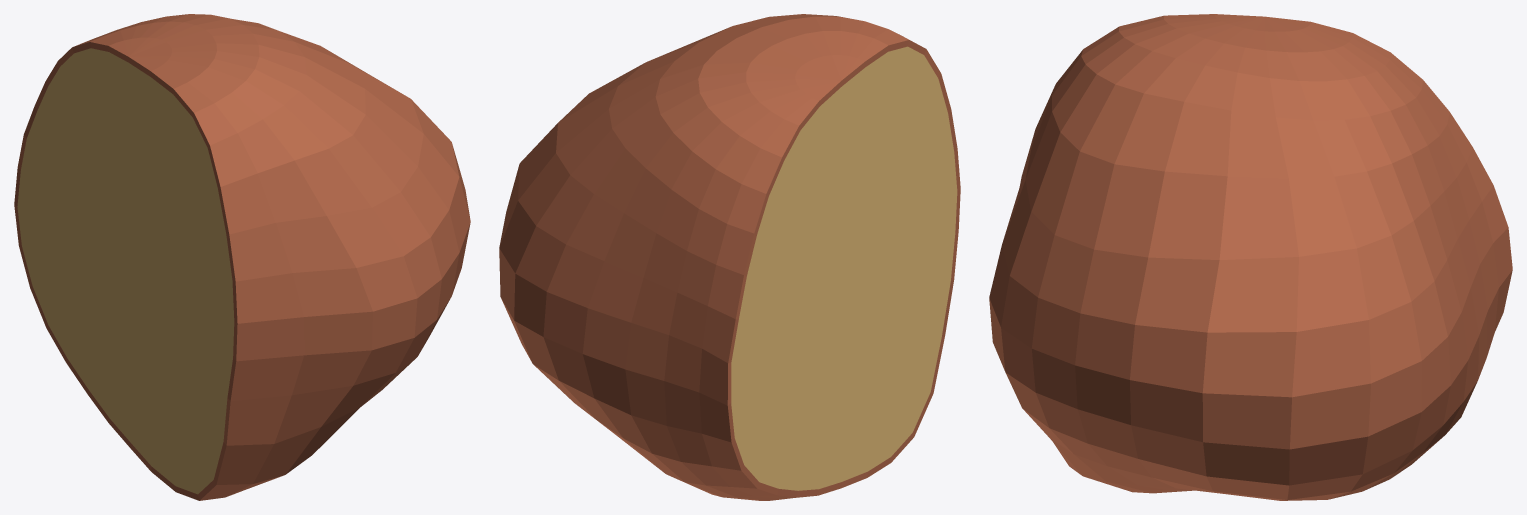
File: PotatoRight.fbx
The picture shows the model from 3 angles, left to right: view 1: azimuth 30°, elevation 25°; view 2: azimuth 150°, elevation 25°; view 3: azimuth 270°, elevation 25°; orthographic projection. The views are drawn at different scales.
Parts seen in each view (by area): view 1: Сфера.002; view 2: Сфера.002; view 3: Сфера.002.
Part boxes in pixels (x1,y1,x2,y2): Сфера.002: (14,14,470,500); Сфера.002: (499,14,960,500); Сфера.002: (989,14,1512,500).
Bounding box in the file's own units: 181 × 229 × 237.
